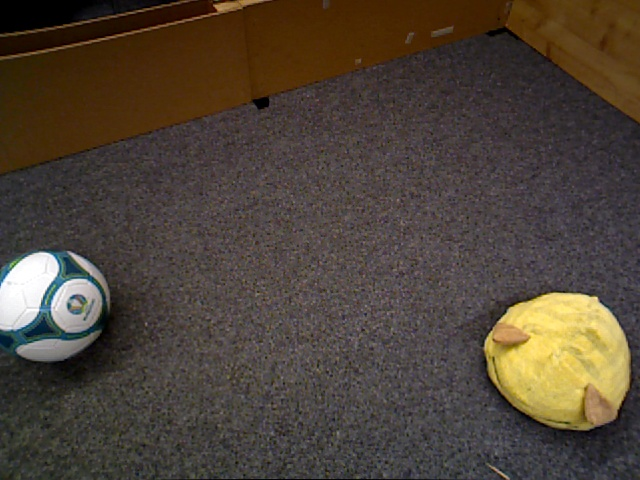grasp: (482, 292, 633, 432)
kick: (1, 249, 112, 366)
